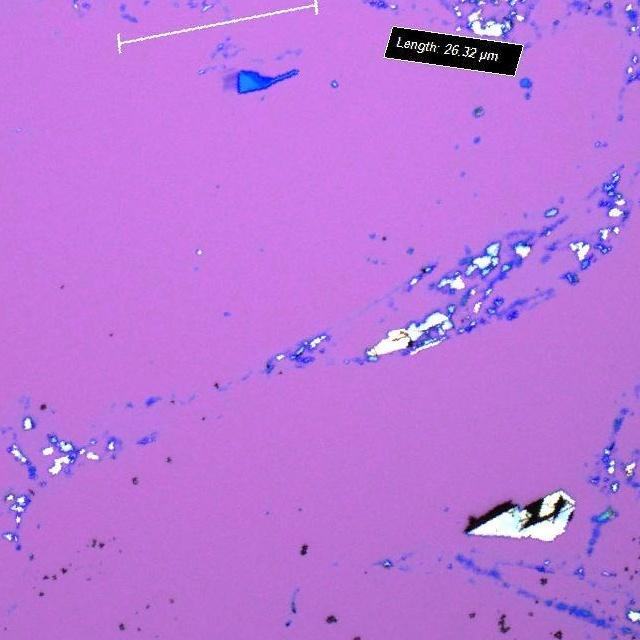monolayer-eWW4: (220, 72, 238, 92)
